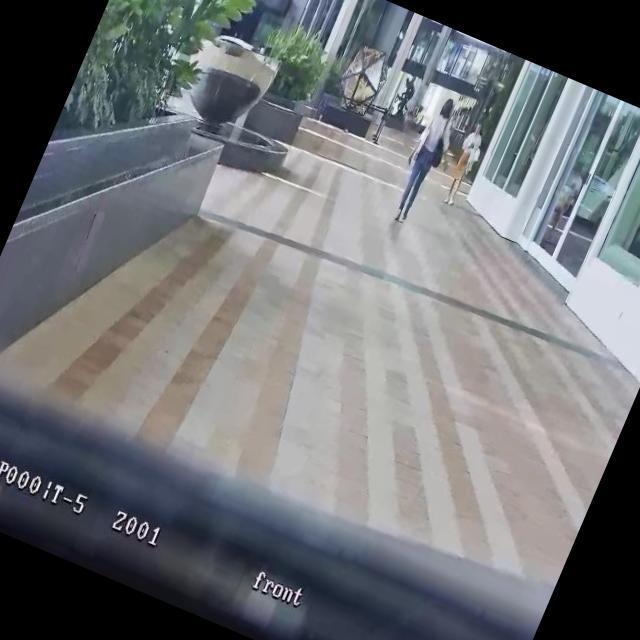person: (383, 92, 466, 229), (438, 120, 489, 208)
